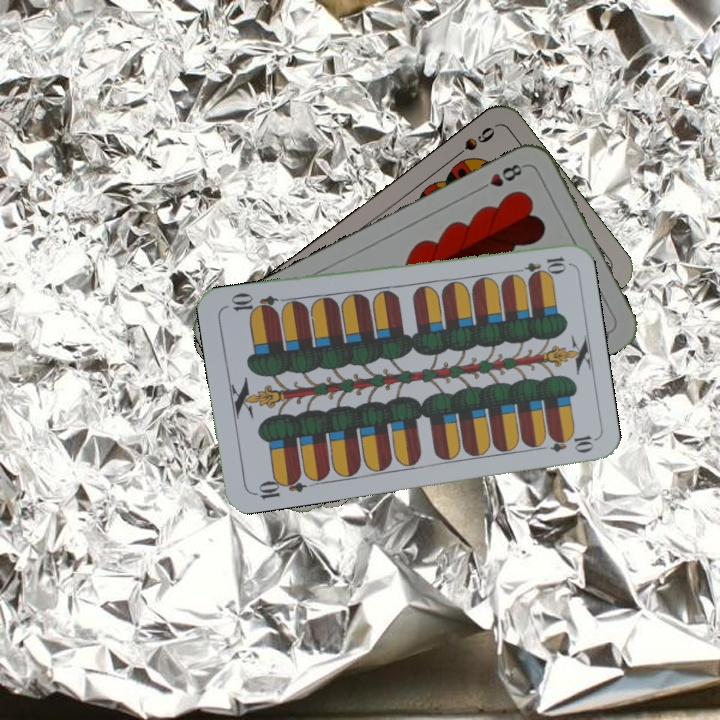E10: (249, 470, 308, 502), (509, 252, 569, 278)
H8: (474, 160, 528, 194)
S9: (447, 122, 498, 164)
